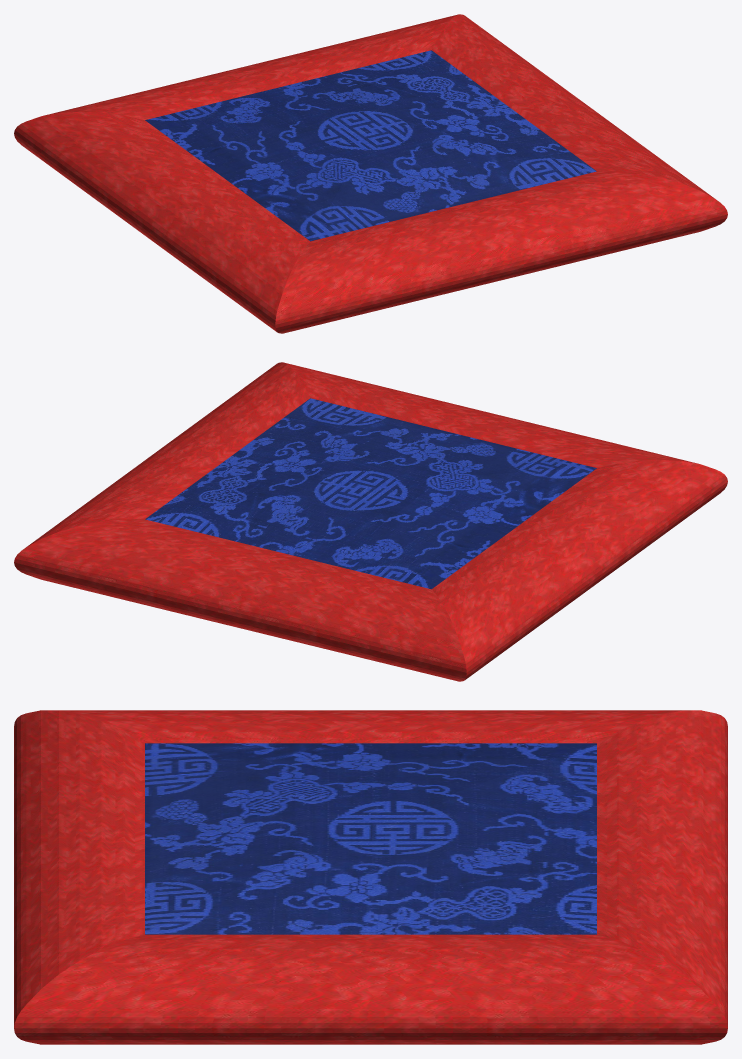
File: Cushion.FBX
The picture shows the model from 3 angles, top to bottom: view 1: azimuth 30°, elevation 25°; view 2: azimuth 150°, elevation 25°; view 3: azimuth 270°, elevation 25°; orthographic projection. The views are drawn at different scales.
Parts seen in each view (by area): view 1: CuShion; view 2: CuShion; view 3: CuShion.
Boxes of the visible parts, x1,y1,x2,y2 form: CuShion: (14, 14, 727, 333); CuShion: (14, 362, 727, 681); CuShion: (14, 710, 727, 1044).
Size of the model in its own units: 54.57 by 8.44 by 54.57.
